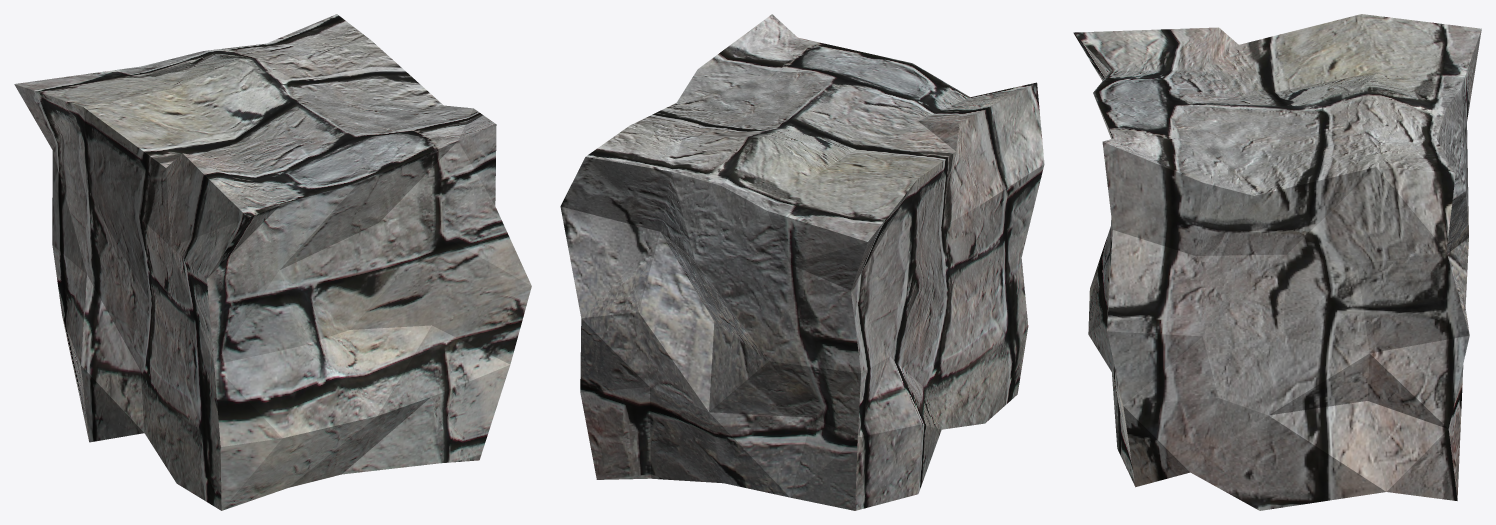
File: WallDisplayMesh2.obj
The picture shows the model from 3 angles, left to right: view 1: azimuth 30°, elevation 25°; view 2: azimuth 150°, elevation 25°; view 3: azimuth 270°, elevation 25°; orthographic projection. The views are drawn at different scales.
Visible parts, largest first — view 1: Cube; view 2: Cube; view 3: Cube.
Boxes of the visible parts, box(x1,y1,x2,y2) form: Cube: box(14, 14, 531, 510); Cube: box(560, 14, 1044, 510); Cube: box(1073, 14, 1481, 510).
Bounding box in the file's own units: 1.16 × 1.17 × 1.21.
Materials: 1 (1 with a texture image).
